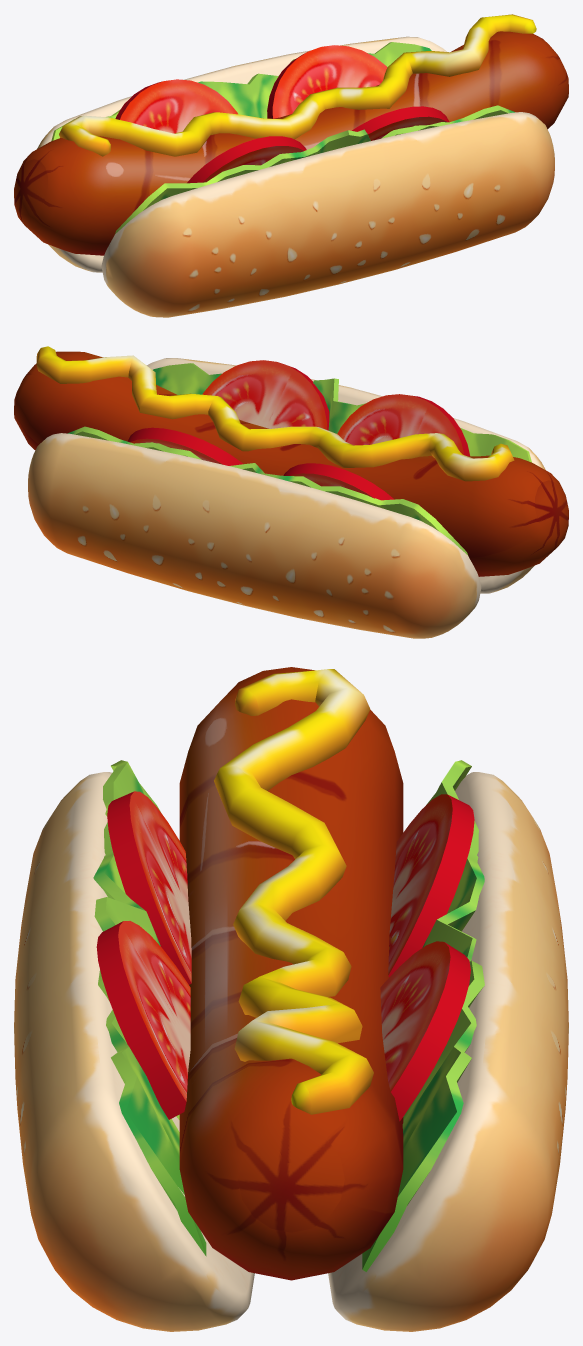
Rendered from 1_2_hot_dog.fbx.
3 views of the same model, one above another, from view 1: azimuth 30°, elevation 25°; view 2: azimuth 150°, elevation 25°; view 3: azimuth 270°, elevation 25° (orthographic). The views are drawn at different scales.
Visible parts, largest first — view 1: bread.003; view 2: bread.003; view 3: bread.003.
Boxes of the visible parts, x1=… form: bread.003: x1=14, y1=14, x2=568, y2=317; bread.003: x1=14, y1=346, x2=568, y2=638; bread.003: x1=14, y1=667, x2=568, y2=1331.
Size of the model in its own units: 4.37 by 1.38 by 2.1.
Materials: 1 (1 with a texture image).
